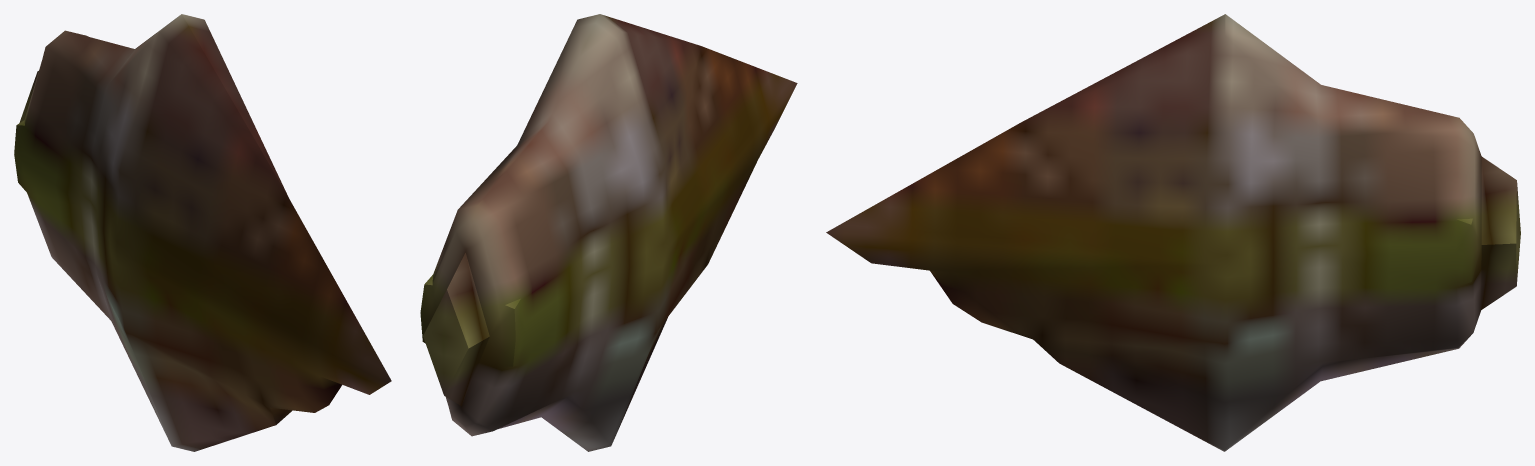
The picture shows the model from 3 angles, left to right: view 1: azimuth 30°, elevation 25°; view 2: azimuth 150°, elevation 25°; view 3: azimuth 270°, elevation 25°; orthographic projection. The views are drawn at different scales.
Visible parts, largest first — view 1: hook_smd; view 2: hook_smd; view 3: hook_smd.
Boxes of the visible parts, left/top/right/bottom form: hook_smd: left=14, top=14, right=391, bottom=451; hook_smd: left=420, top=14, right=797, bottom=451; hook_smd: left=826, top=14, right=1520, bottom=451.
Size of the model in its own units: 0.1911 by 0.5681 by 0.8279.
Materials: 1 (1 with a texture image).
